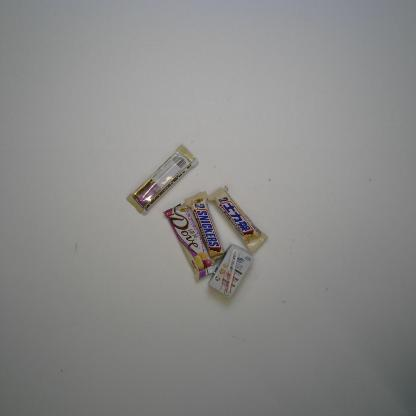Chocolate: (123, 142, 200, 218), (162, 200, 220, 284), (207, 185, 270, 255), (181, 188, 229, 267)
Milk: (206, 241, 254, 300)
